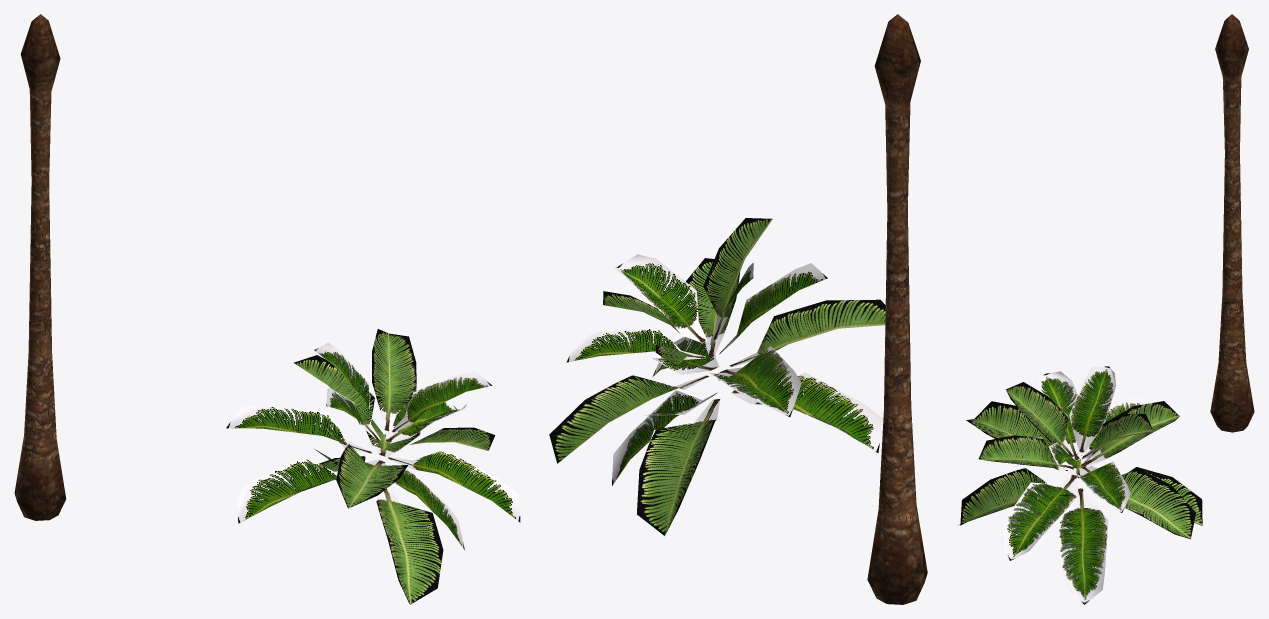
The model's file is alphapalm.gltf.
3 views of the same model, side by side, from view 1: azimuth 30°, elevation 25°; view 2: azimuth 150°, elevation 25°; view 3: azimuth 270°, elevation 25° (orthographic). The views are drawn at different scales.
Bounding box in the file's own units: 11.85 × 16.53 × 9.79.
2 materials, 2 textured.
